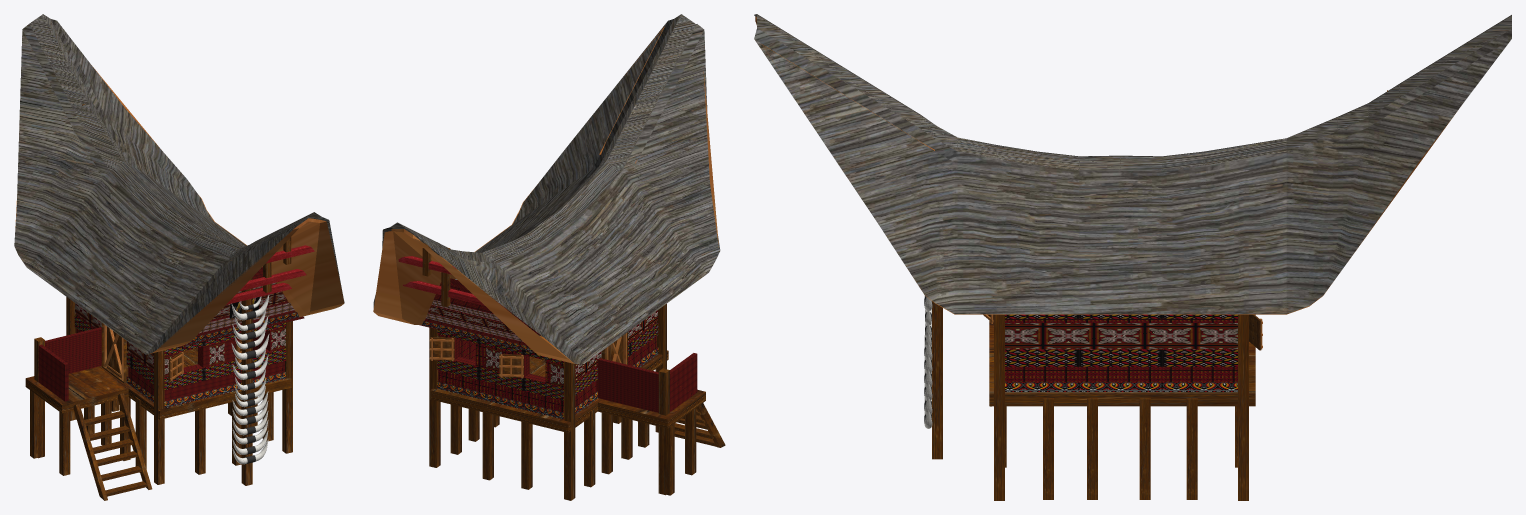
The model's file is toraja1.glb.
3 views of the same model, side by side, from view 1: azimuth 30°, elevation 25°; view 2: azimuth 150°, elevation 25°; view 3: azimuth 270°, elevation 25° (orthographic). The views are drawn at different scales.
Visible parts, largest first — view 1: Cube.100, Cube.059, Cube.090, Cube.117, Cube.043, Cube.095, Cube.007, Cube.096, Plane.001, Cube.008, Cube.024, Cube.093 (+22 smaller); view 2: Cube.100, Cube.059, Cube.119, Cube.043, Cube.095, Plane.003, Cube.011, Cube.090, Plane.010, Cube.012, Cube.096, Plane.017 (+21 smaller); view 3: Cube.100, Plane.026, Cube.118, Plane.022, Cube.043, Plane.024, Cube.008, Cube.012, Cube.024, Cube.015, Cube.016, Plane.023 (+2 smaller).
Boxes of the visible parts, box(x1,y1,x2,y2) form: Cube.100: box(14, 14, 344, 354); Cube.059: box(15, 67, 344, 354); Cube.090: box(25, 366, 128, 413); Cube.117: box(164, 326, 284, 400); Cube.043: box(99, 348, 291, 419); Cube.095: box(45, 327, 101, 373); Cube.007: box(154, 350, 164, 484); Cube.096: box(38, 344, 68, 401); Plane.001: box(164, 348, 285, 389); Cube.008: box(282, 321, 292, 453); Cube.024: box(241, 277, 252, 485); Cube.093: box(73, 404, 107, 500); Cube.100: box(373, 14, 720, 363); Cube.059: box(373, 27, 718, 363); Cube.119: box(438, 302, 563, 412); Cube.043: box(430, 350, 668, 432); Cube.095: box(596, 358, 658, 412); Plane.003: box(437, 360, 563, 400); Cube.011: box(564, 361, 575, 500); Cube.090: box(598, 389, 705, 428); Plane.010: box(419, 278, 527, 345); Cube.012: box(429, 327, 440, 467); Cube.096: box(670, 353, 697, 411); Plane.017: box(437, 381, 563, 419); Cube.100: box(754, 14, 1511, 314); Plane.026: box(1005, 323, 1237, 348); Cube.118: box(1005, 318, 1237, 382); Plane.022: box(1005, 349, 1237, 366); Cube.043: box(989, 314, 1255, 406); Plane.024: box(1005, 382, 1237, 391); Cube.008: box(994, 314, 1004, 500); Cube.012: box(1238, 314, 1248, 500); Cube.024: box(932, 301, 942, 459); Cube.015: box(1139, 398, 1150, 499); Cube.016: box(1186, 398, 1197, 499); Plane.023: box(1005, 314, 1237, 318).
Size of the model in its own units: 19.36 by 25.86 by 39.92.
14 materials, 13 textured.
